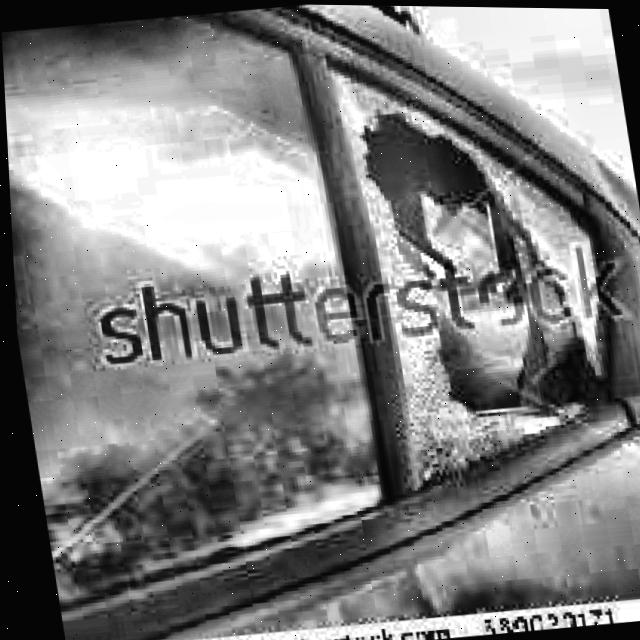glass_shatter: (341, 91, 607, 448)
